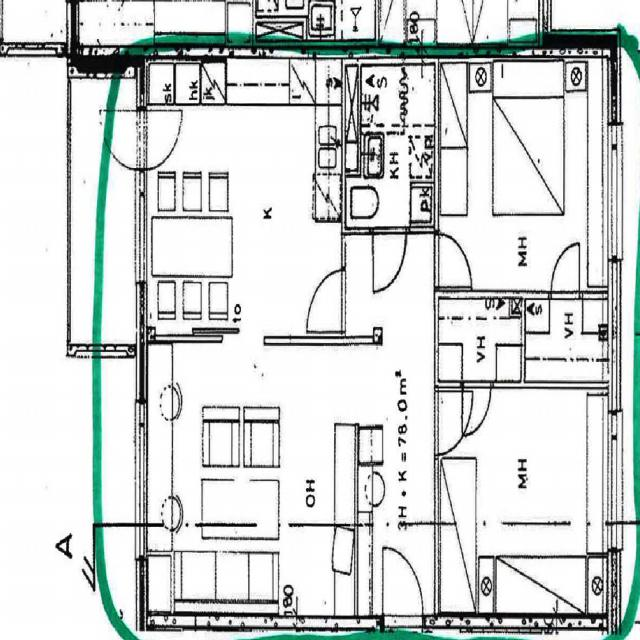door: (383, 546, 422, 626), (102, 110, 147, 168), (136, 110, 180, 168), (434, 390, 474, 453), (306, 269, 345, 331), (372, 226, 406, 291), (434, 235, 468, 287), (462, 381, 490, 437), (551, 242, 579, 297)
